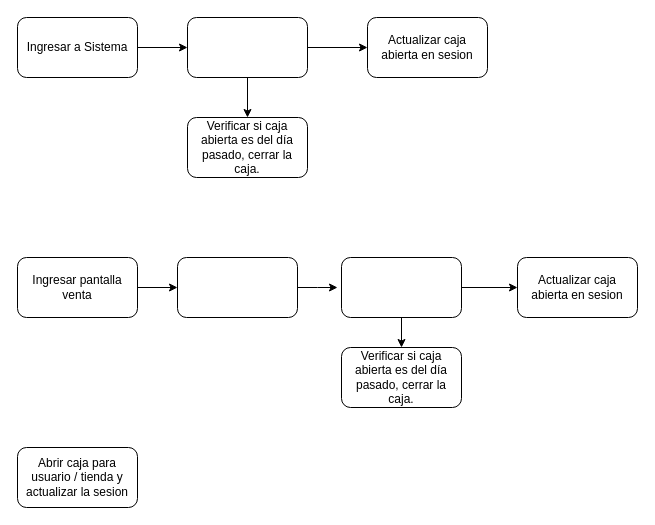
This 655x525 diagram has some shape labels left out. The box of each missing label's shape, as (x1, y1, x2, y2) in pixels:
Verificar caja abierta en base de datos: (186, 16, 308, 78)
Verificar caja abierta para el usuario en base de datos: (340, 256, 462, 318)
Verificar caja abierta para el usuario en sesion: (176, 256, 298, 318)
